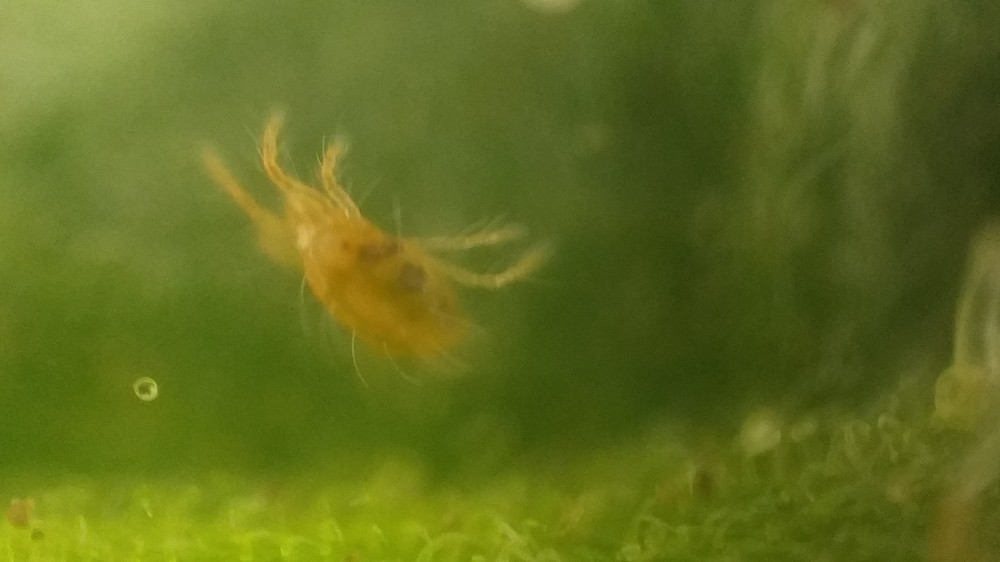Aracnido Rojo: (185, 116, 579, 417)
